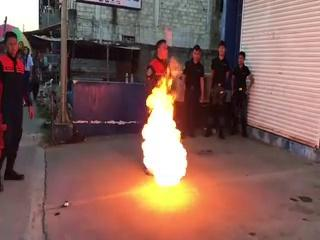Fire: (137, 73, 191, 192)
